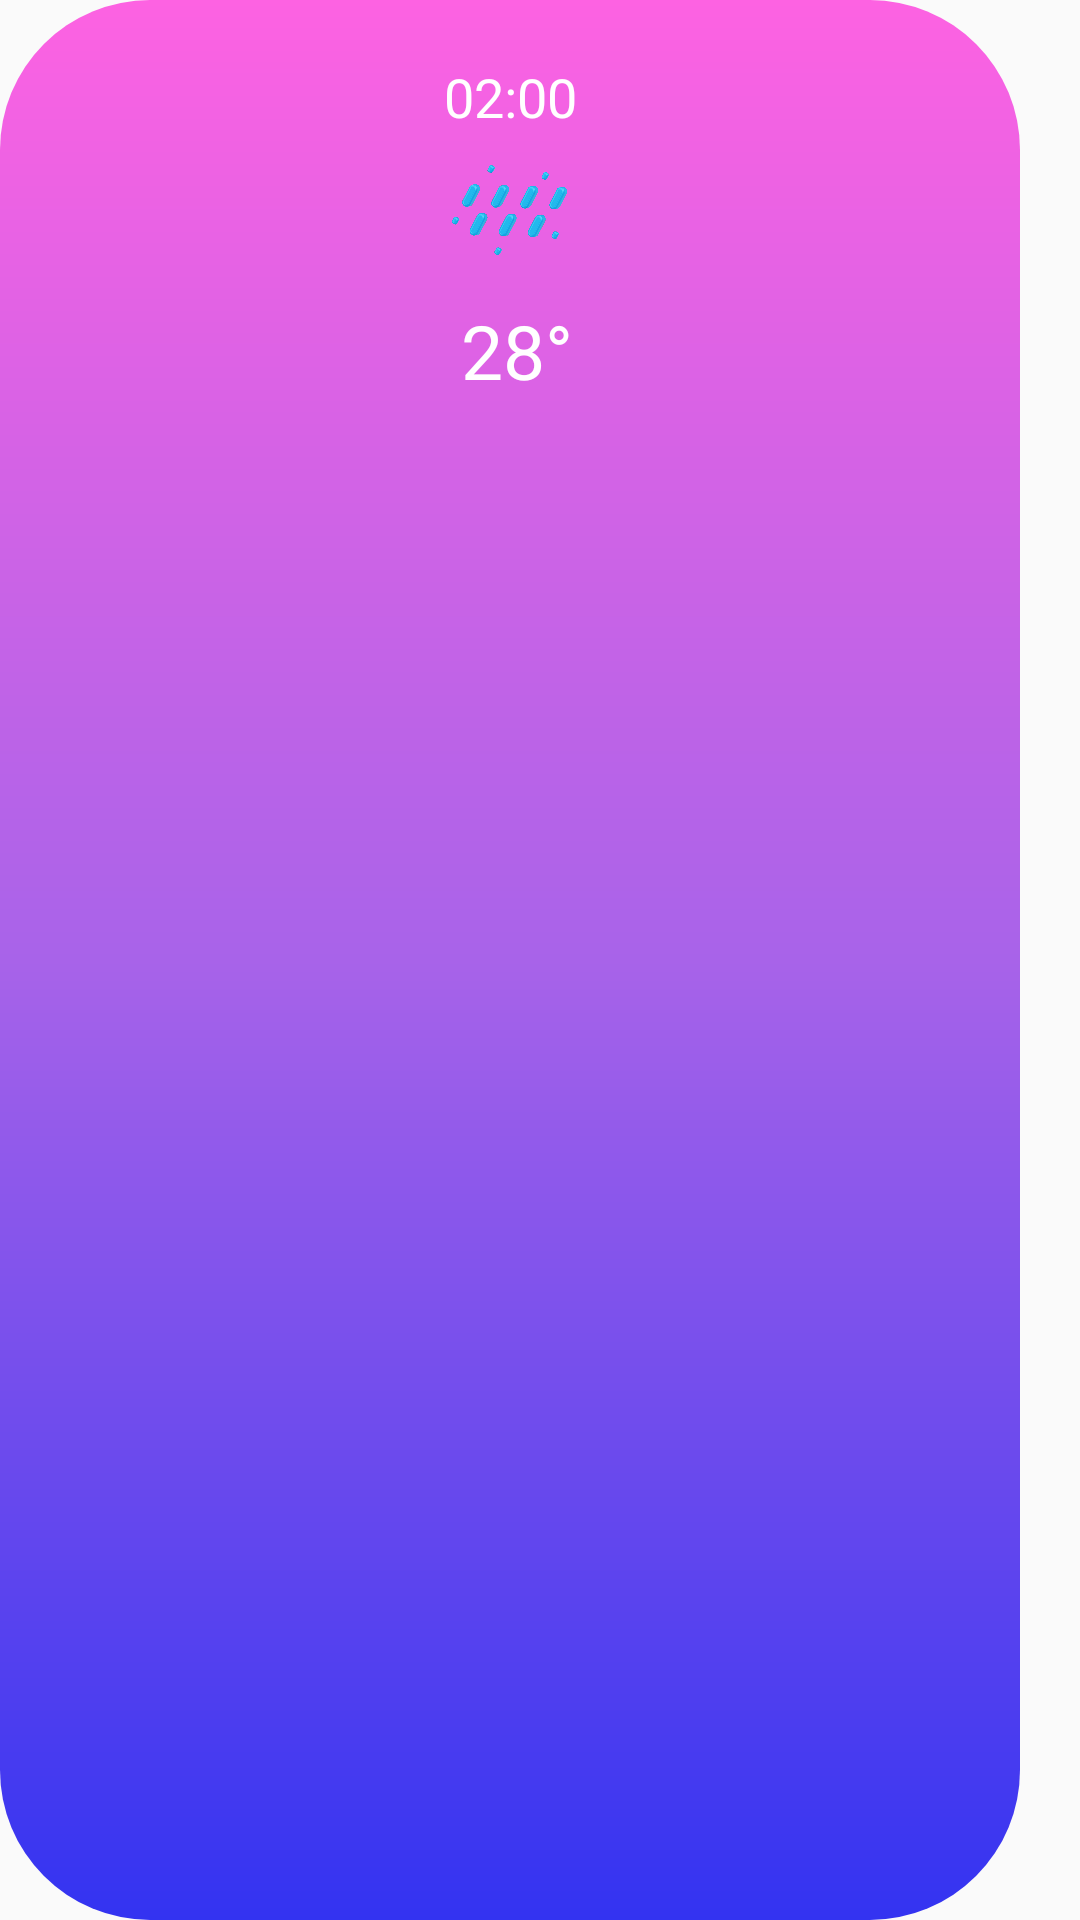

Named icons in this screenshot (1080px×1920px) and their bounding boxes, [x1, y1, x2, y2]:
pic rain: [452, 165, 567, 255]
